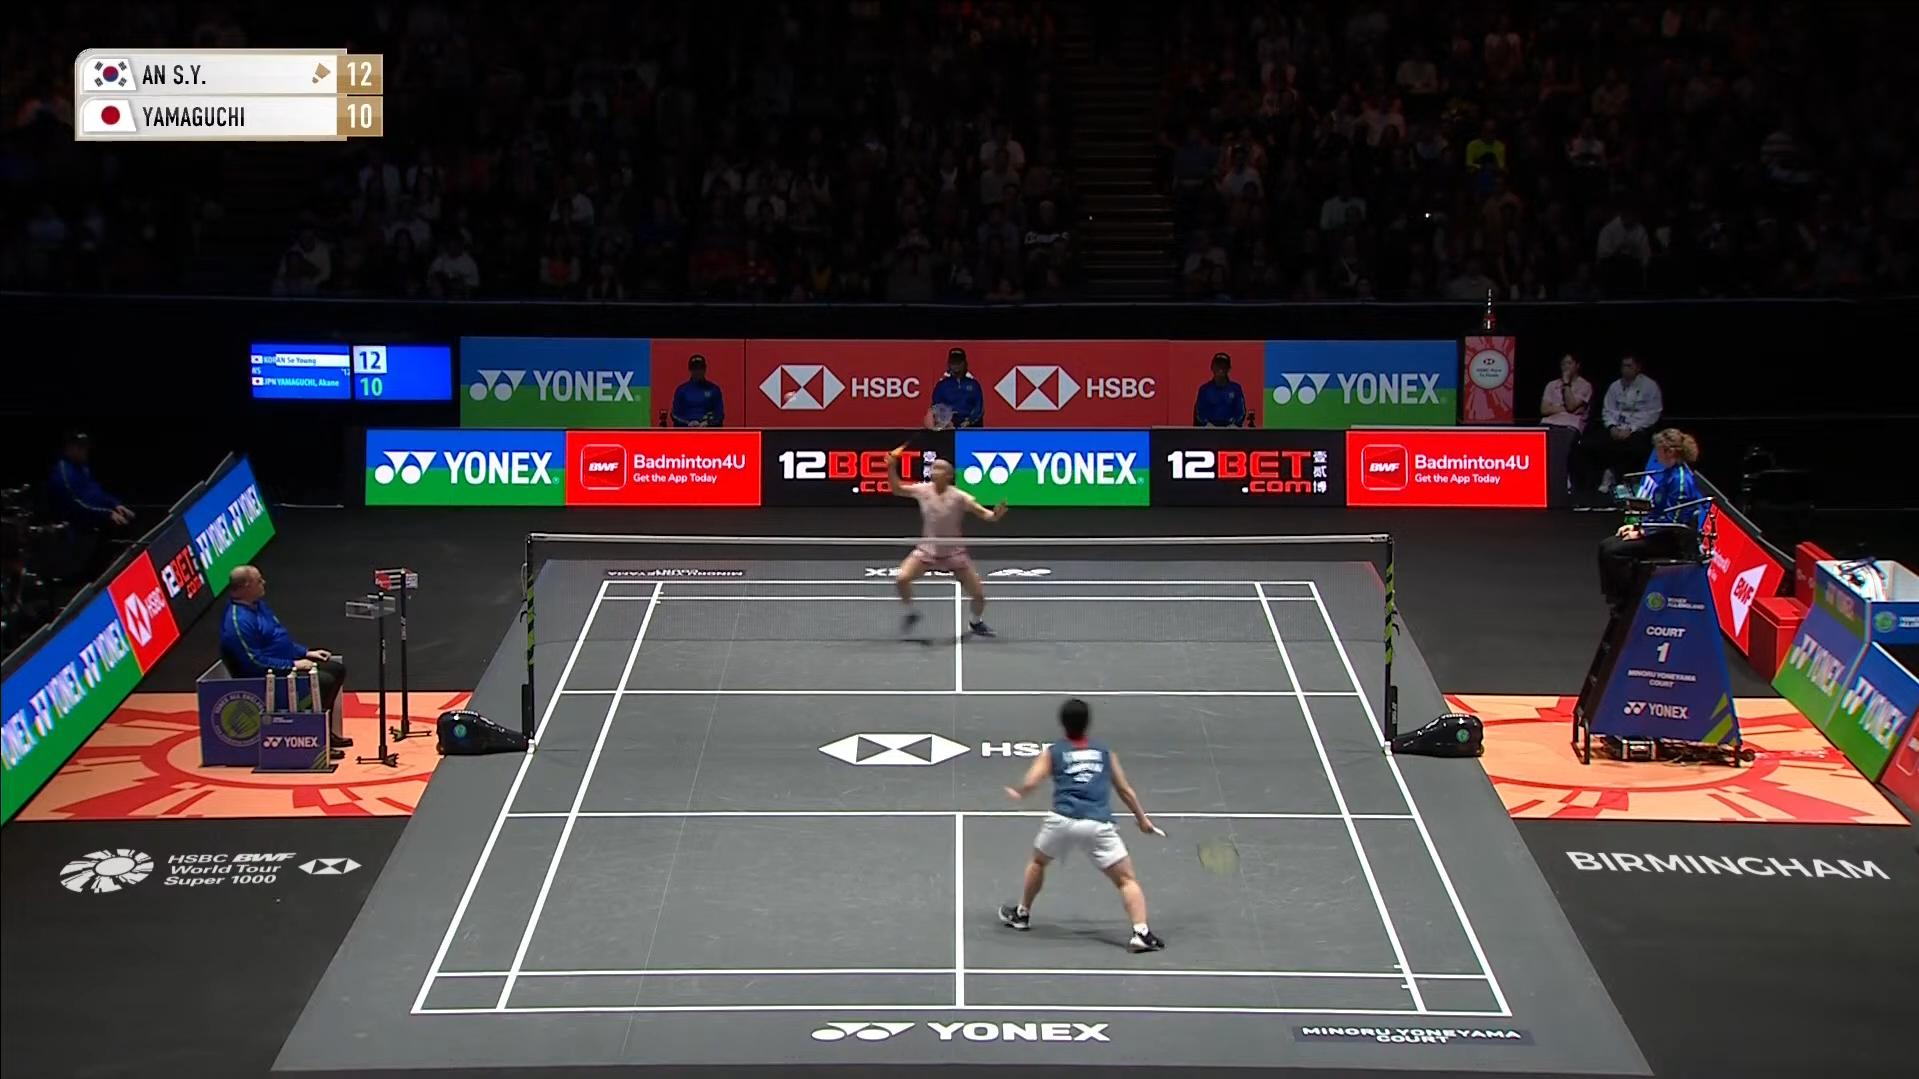shuttle: (778, 382, 801, 414)
